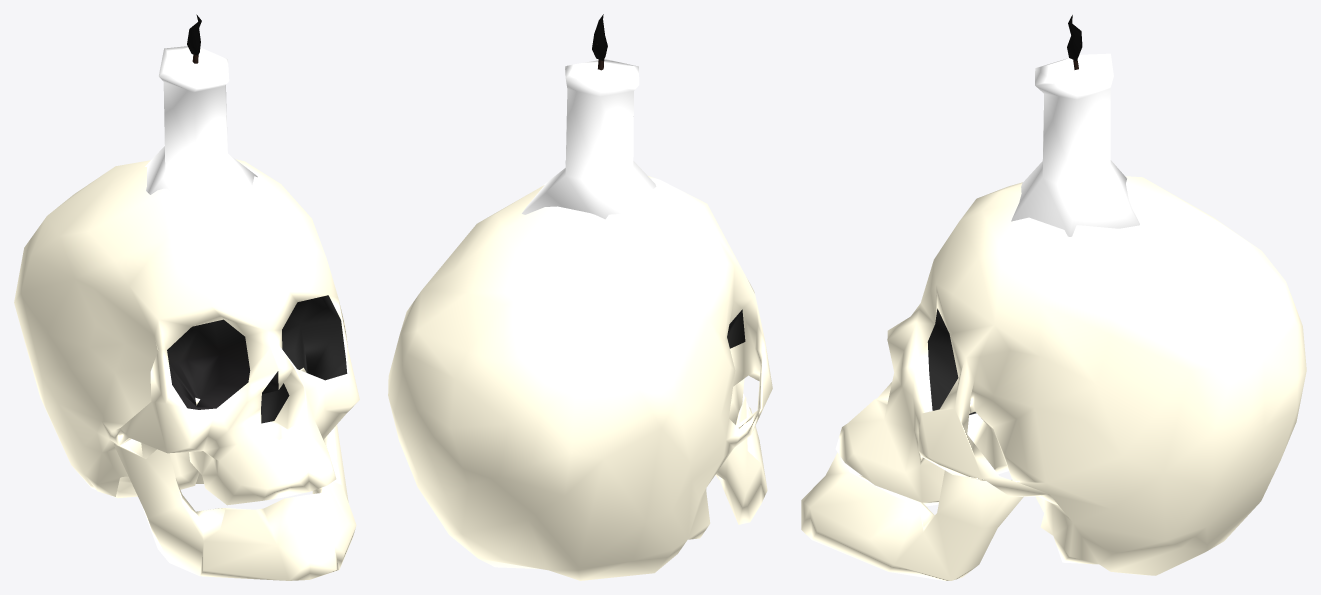
Rendered from CandleSkullShapeB.019.glb.
3 renders of one model, left to right at view 1: azimuth 30°, elevation 25°; view 2: azimuth 150°, elevation 25°; view 3: azimuth 270°, elevation 25°, orthographic. The views are drawn at different scales.
Parts seen in each view (by area): view 1: CandleSkullShapeB.019; view 2: CandleSkullShapeB.019; view 3: CandleSkullShapeB.019.
Part boxes in pixels (x1,y1,x2,y2): CandleSkullShapeB.019: (14, 14, 359, 580); CandleSkullShapeB.019: (388, 14, 772, 580); CandleSkullShapeB.019: (801, 15, 1306, 580).
Size of the model in its own units: 0.2005 by 0.3649 by 0.3132.
Materials: 2 (2 with a texture image).
